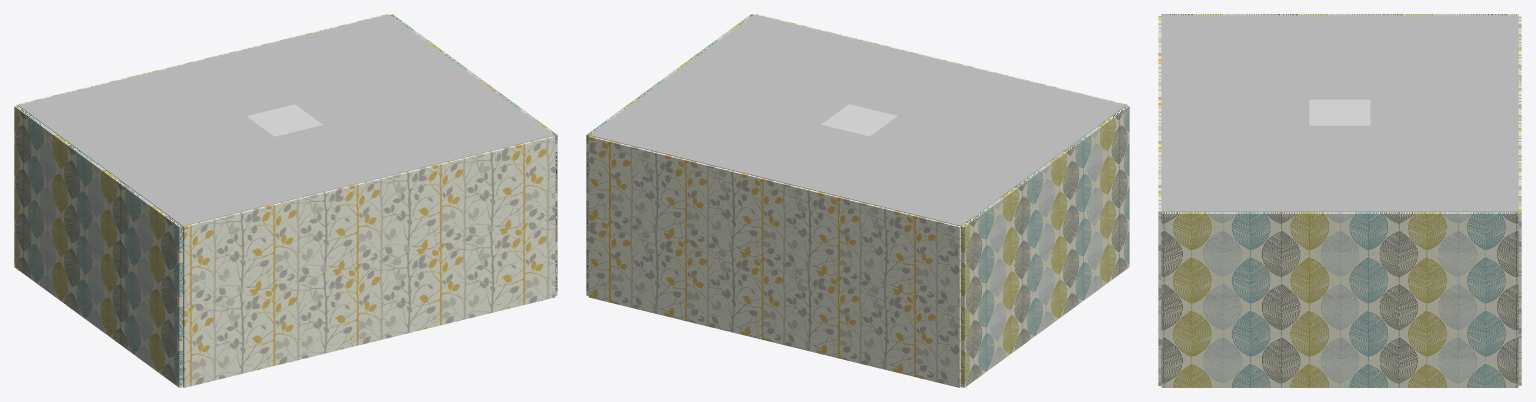
Rendered from Interior.fbx.
3 renders of one model, left to right at view 1: azimuth 30°, elevation 25°; view 2: azimuth 150°, elevation 25°; view 3: azimuth 270°, elevation 25°, orthographic. The views are drawn at different scales.
Parts seen in each view (by area): view 1: PlaneFloor.004, PlaneFloor.003, PlaneFloor.005, Cube, PlaneFloor.002, PlaneFloor.001; view 2: PlaneFloor.001, PlaneFloor.003, PlaneFloor.005, Cube, PlaneFloor.002, PlaneFloor.004; view 3: PlaneFloor.003, PlaneFloor.002, Cube, PlaneFloor.001, PlaneFloor.004, PlaneFloor.005.
Part boxes in pixels (bbox=[...]): PlaneFloor.004: bbox=[183, 136, 555, 387]; PlaneFloor.003: bbox=[18, 14, 553, 226]; PlaneFloor.005: bbox=[14, 105, 182, 387]; Cube: bbox=[246, 104, 322, 136]; PlaneFloor.002: bbox=[390, 14, 557, 295]; PlaneFloor.001: bbox=[16, 14, 387, 105]; PlaneFloor.001: bbox=[588, 136, 960, 387]; PlaneFloor.003: bbox=[590, 14, 1125, 226]; PlaneFloor.005: bbox=[961, 105, 1129, 387]; Cube: bbox=[821, 104, 897, 136]; PlaneFloor.002: bbox=[586, 14, 753, 295]; PlaneFloor.004: bbox=[756, 14, 1127, 105]; PlaneFloor.003: bbox=[1161, 15, 1518, 211]; PlaneFloor.002: bbox=[1161, 212, 1518, 387]; Cube: bbox=[1309, 99, 1370, 125]; PlaneFloor.001: bbox=[1518, 16, 1521, 385]; PlaneFloor.004: bbox=[1158, 16, 1161, 385]; PlaneFloor.005: bbox=[1161, 14, 1518, 15].
Size of the model in its own units: 1551 by 633 by 1191.
